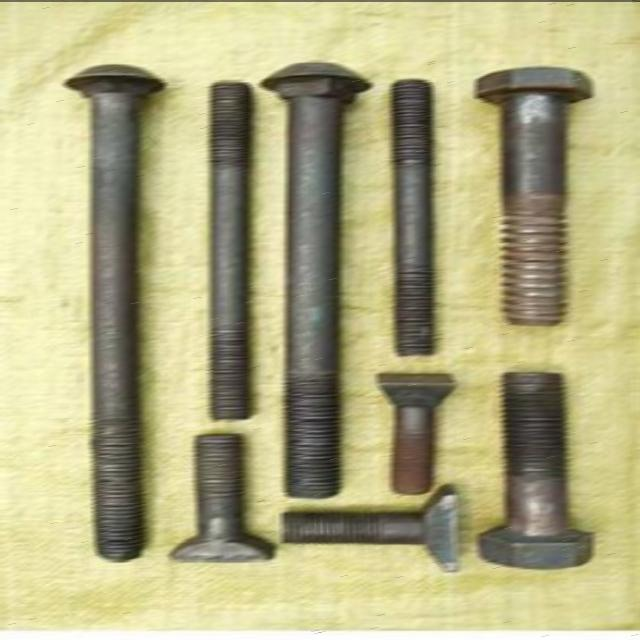Bolt: (60, 61, 168, 562), (258, 59, 374, 498), (472, 63, 596, 328), (474, 368, 594, 570), (277, 482, 461, 572), (168, 430, 276, 562), (372, 370, 458, 494)
